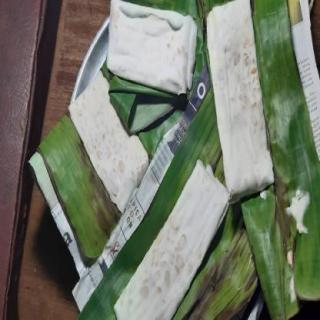Tempe: (202, 1, 317, 203)
